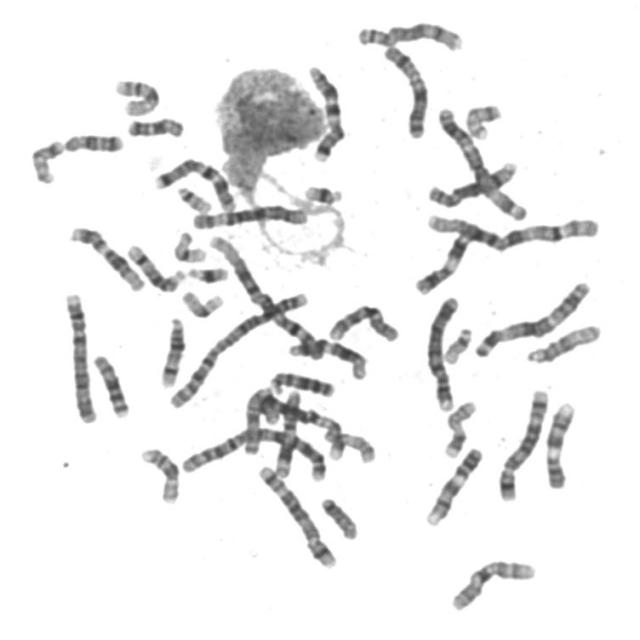A1: (203, 228, 326, 362), (419, 205, 601, 252)
A2: (162, 284, 313, 409), (174, 422, 332, 484)
A3: (430, 99, 529, 223), (468, 274, 595, 359)
B4: (58, 286, 99, 424), (421, 290, 463, 412)
B5: (252, 458, 339, 570), (493, 382, 551, 503)
C10: (443, 553, 539, 614), (322, 298, 402, 344)
C11: (409, 226, 476, 296), (269, 383, 305, 478)
C12: (64, 220, 147, 292), (284, 332, 371, 381)
C6: (259, 394, 343, 443), (185, 199, 310, 231)
C7: (148, 150, 239, 213), (301, 59, 348, 163)
C8: (421, 155, 520, 209), (352, 16, 466, 52)
C9: (420, 442, 485, 528), (540, 395, 578, 491)
D13: (86, 347, 131, 420), (264, 364, 336, 399)
D14: (121, 238, 187, 293), (153, 311, 188, 389)
D15: (520, 317, 603, 366), (241, 386, 272, 454)
E16: (134, 441, 182, 505), (109, 72, 162, 118)
E17: (438, 395, 479, 459), (320, 425, 378, 465)
E18: (59, 127, 125, 155), (122, 111, 186, 139)
F19: (176, 284, 226, 319), (168, 225, 208, 264)
F20: (26, 134, 66, 186), (460, 97, 504, 141)
G21: (298, 177, 345, 206), (183, 260, 231, 284)
G22: (438, 321, 475, 365), (171, 180, 214, 214)
X: (377, 38, 432, 140)
Y: (315, 491, 360, 541)
